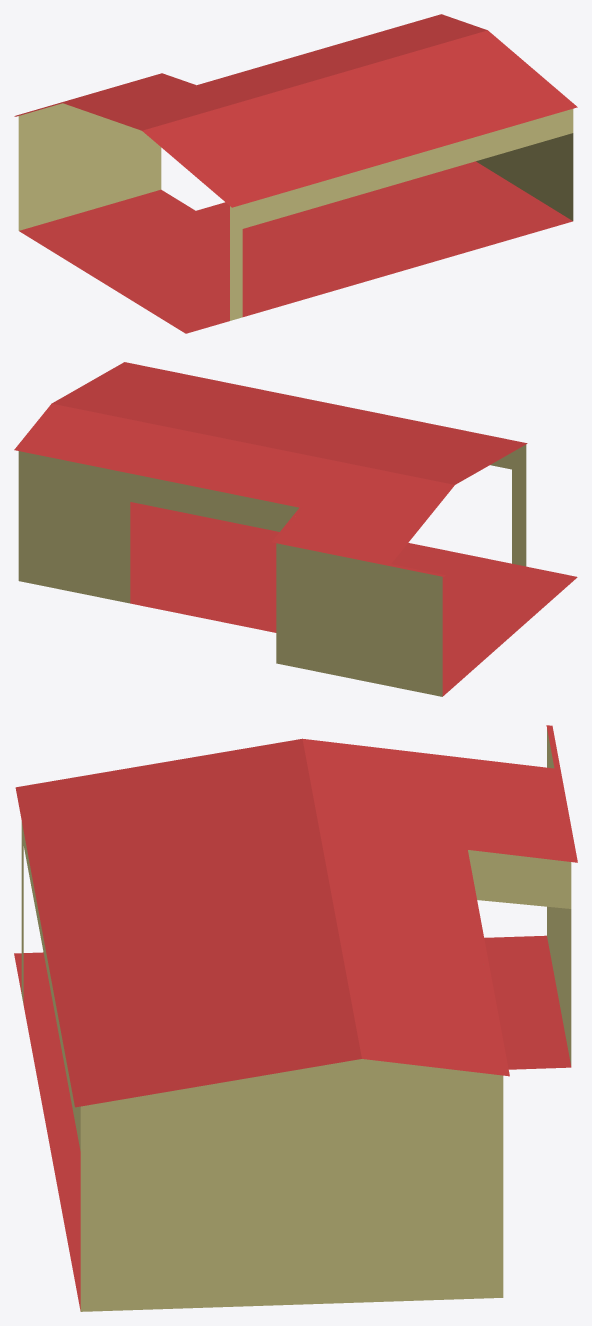
The picture shows the model from 3 angles, top to bottom: view 1: azimuth 30°, elevation 25°; view 2: azimuth 150°, elevation 25°; view 3: azimuth 270°, elevation 25°; orthographic projection. The views are drawn at different scales.
Size of the model in its own units: 37.07 by 23.15 by 11.15.
